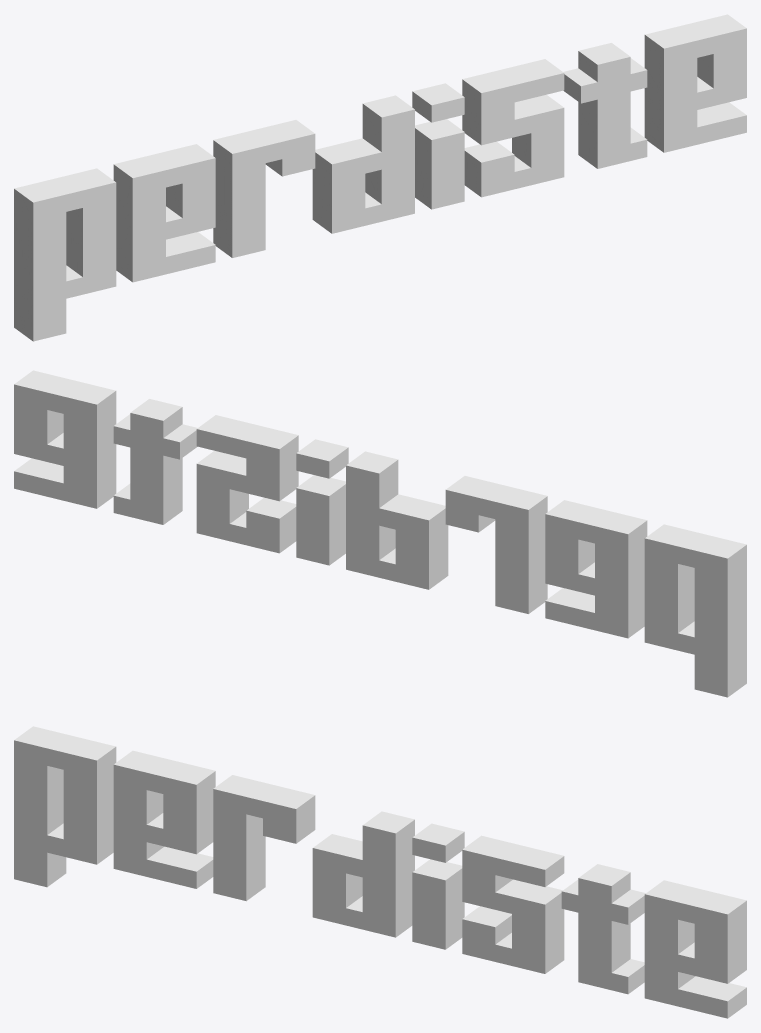
File: Perdiste_v1.fbx
3 views of the same model, one above another, from view 1: azimuth 30°, elevation 25°; view 2: azimuth 150°, elevation 25°; view 3: azimuth 330°, elevation 25° (orthographic).
Visible parts, largest first — view 1: Perdiste; view 2: Perdiste; view 3: Perdiste.
Boxes of the visible parts, <box> form: Perdiste: <box>14,14,746,341</box>; Perdiste: <box>14,370,746,697</box>; Perdiste: <box>14,726,746,1018</box>.
Size of the model in its own units: 269 by 50 by 12.5.
Materials: 1 (1 with a texture image).
